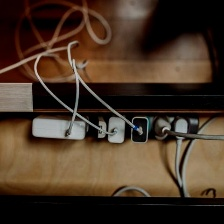three_eye_plug: (31, 110, 202, 143)
